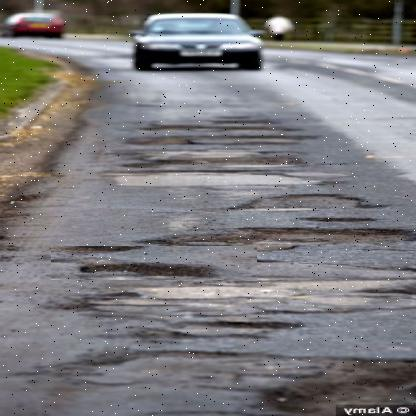damage: (29, 282, 352, 354), (131, 110, 312, 157), (230, 185, 394, 225)
pothole: (50, 246, 257, 281)
